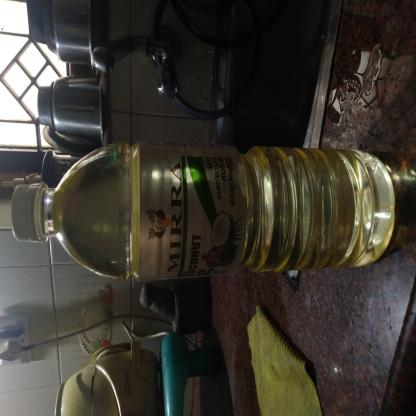bottle: (101, 12, 209, 416)
